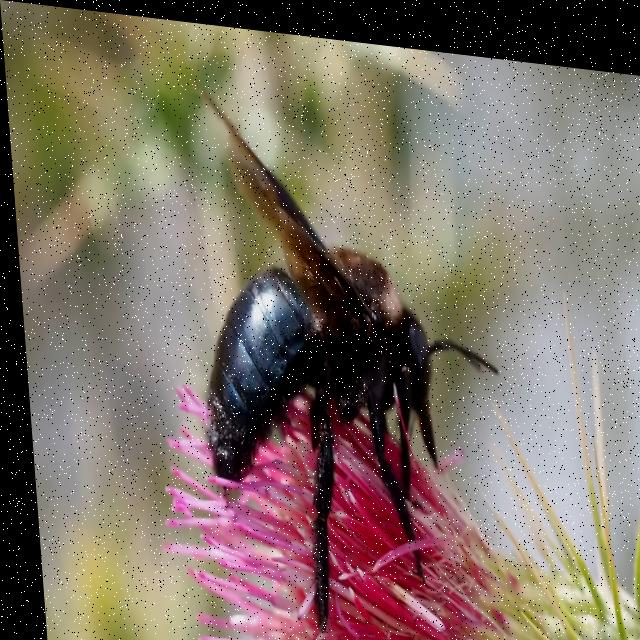Allodapula: (164, 36, 508, 640)
